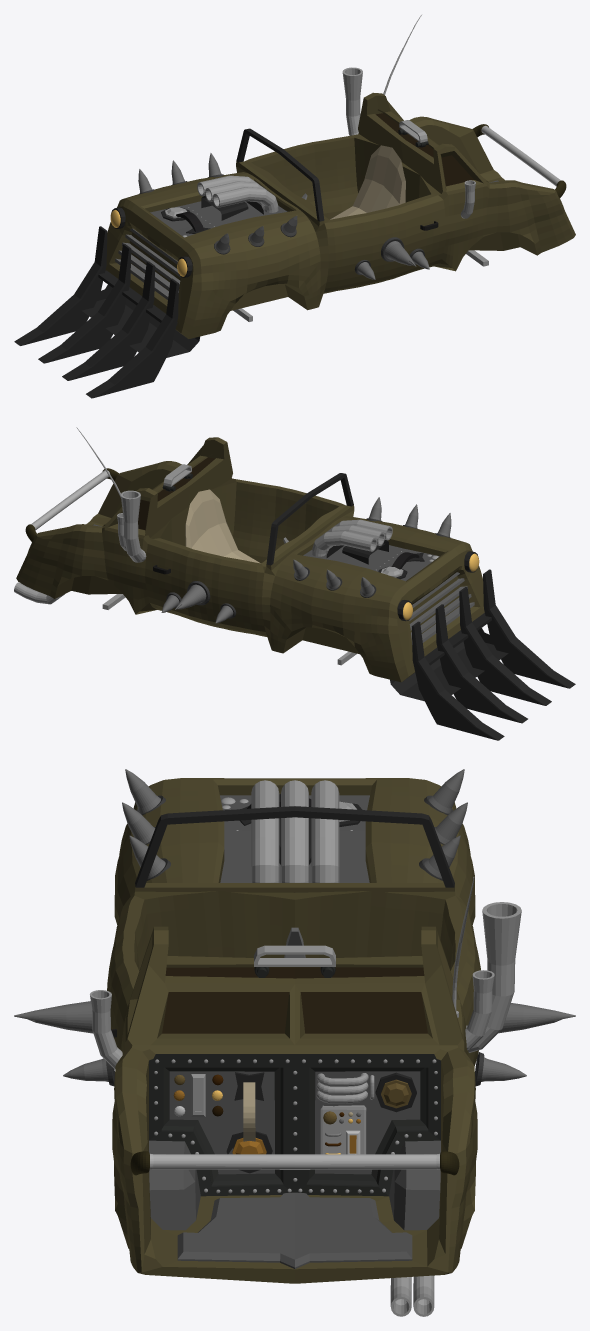
The model's file is Car_Base.fbx.
3 renders of one model, top to bottom at view 1: azimuth 30°, elevation 25°; view 2: azimuth 150°, elevation 25°; view 3: azimuth 270°, elevation 25°, orthographic. The views are drawn at different scales.
Visible parts, largest first — view 1: Cube, Cube.002, Cube.016, Cube.006, Cube.008, Cylinder.005, Cylinder.004, Cylinder.022, Cylinder.010, Cube.009, Cube.001, Cylinder.025 (+1 smaller); view 2: Cube, Cube.002, Cube.016, Cube.006, Cube.008, Cylinder.005, Cylinder.003, Cylinder.022, Cylinder.010, Cube.009, Cube.001, Cylinder.025 (+5 smaller); view 3: Cube, Cylinder.022, Cylinder.005, Cylinder.010, Cylinder.003, Cylinder.004, Cylinder.001, Cylinder.011, Cylinder.009, Cube.021, Cube.020, Cylinder.006 (+7 smaller).
Part boxes in pixels (box(x1,y1,x2,y2)): Cube: box(105, 92, 575, 338); Cube.002: box(14, 226, 178, 398); Cube.016: box(330, 145, 405, 219); Cube.006: box(115, 228, 180, 299); Cube.008: box(82, 284, 199, 357); Cylinder.005: box(342, 67, 362, 135); Cylinder.004: box(213, 187, 278, 212); Cylinder.022: box(472, 124, 566, 197); Cylinder.010: box(381, 237, 416, 266); Cube.009: box(98, 270, 177, 325); Cube.001: box(201, 195, 263, 220); Cylinder.025: box(208, 153, 297, 237); Cube: box(16, 437, 484, 682); Cube.002: box(411, 569, 575, 740); Cube.016: box(185, 489, 260, 563); Cube.006: box(409, 572, 474, 644); Cube.008: box(390, 628, 508, 701); Cylinder.005: box(120, 490, 146, 562); Cylinder.003: box(312, 531, 377, 556); Cylinder.022: box(25, 468, 118, 541); Cylinder.010: box(175, 581, 210, 609); Cube.009: box(425, 613, 491, 665); Cube.001: box(326, 540, 388, 564); Cylinder.025: box(293, 497, 382, 580); Cube: box(107, 778, 480, 1283); Cylinder.022: box(130, 1151, 459, 1175); Cylinder.005: box(466, 902, 521, 1052); Cylinder.010: box(14, 1001, 575, 1033); Cylinder.003: box(311, 780, 339, 882); Cylinder.004: box(251, 780, 279, 882); Cylinder.001: box(281, 780, 308, 882); Cylinder.011: box(63, 1052, 526, 1086); Cylinder.009: box(125, 769, 464, 815); Cube.021: box(320, 1105, 366, 1154); Cube.020: box(254, 945, 335, 966); Cylinder.006: box(465, 970, 494, 1050).
Size of the model in its own units: 1008 by 432 by 522.
